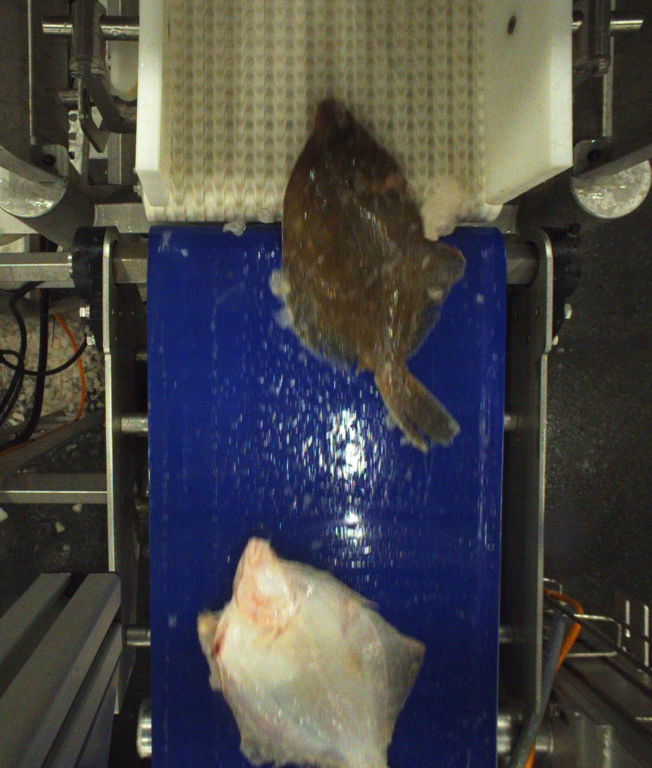PLE: (281, 96, 465, 449)
